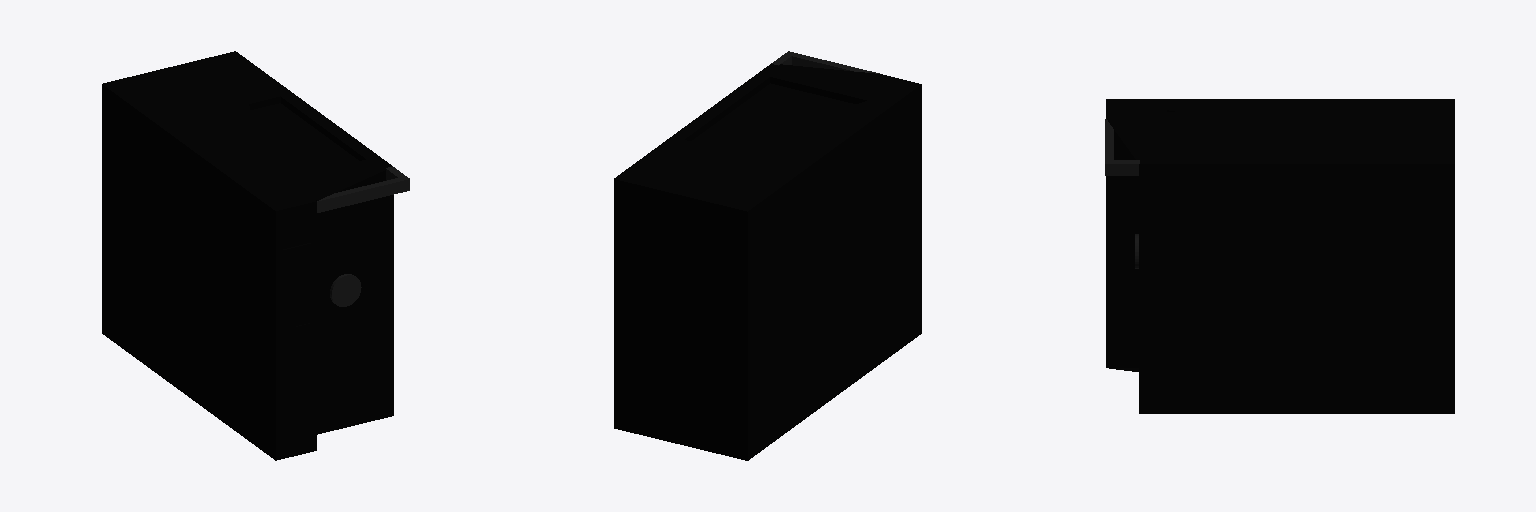
Rendered from office_computer.obj.
3 renders of one model, left to right at view 1: azimuth 30°, elevation 25°; view 2: azimuth 150°, elevation 25°; view 3: azimuth 270°, elevation 25°, orthographic.
Visible parts, largest first — view 1: Cube; view 2: Cube; view 3: Cube.
Boxes of the visible parts, x1=… form: Cube: x1=102, y1=51, x2=409, y2=460; Cube: x1=614, y1=51, x2=921, y2=460; Cube: x1=1105, y1=99, x2=1454, y2=413.
Bounding box in the file's own units: 0.72 × 1.28 × 1.62.